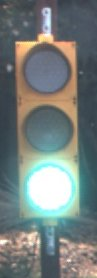Green: (12, 27, 83, 234)
